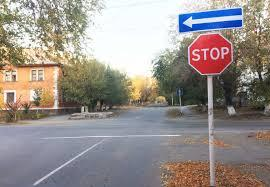Pole: (208, 76, 215, 186)
Sign: (187, 33, 232, 75)
